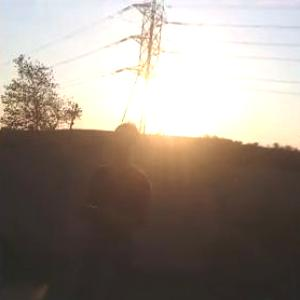follow: (74, 119, 157, 299)
